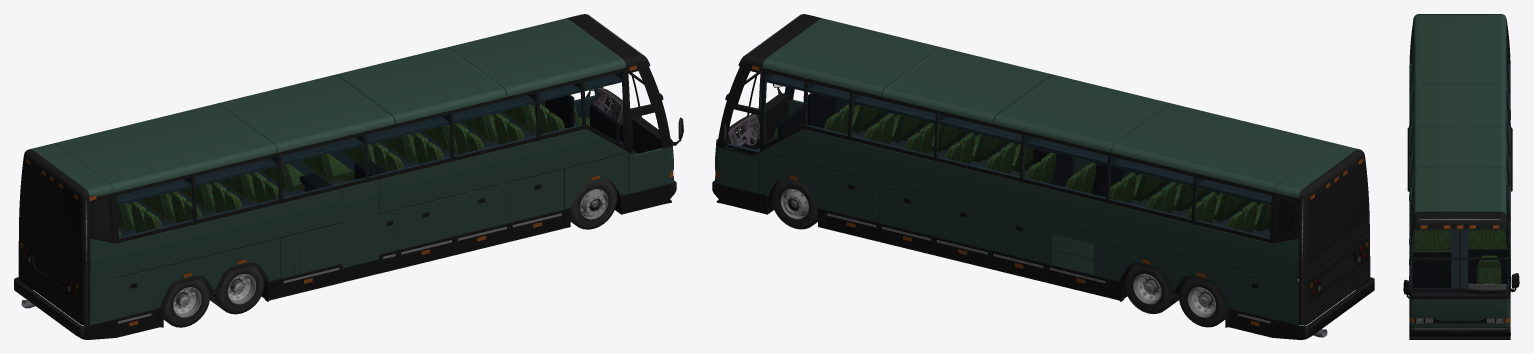
File: prevost-h3-45-heavy.glb
3 renders of one model, left to right at view 1: azimuth 30°, elevation 25°; view 2: azimuth 150°, elevation 25°; view 3: azimuth 270°, elevation 25°, orthographic. The views are drawn at different scales.
Visible parts, largest first — view 1: exterior, interior, door_r, door_f, wheel_1, wheel_4, wheel_5, refect_1, reflect_2, reflect_3, dash; view 2: exterior, interior, wheel, wheel_2, wheel_3, refect, reflect_1, reflect, dash; view 3: exterior, interior, dash.
Part boxes in pixels (box(x1,y1,x2,y2)): exterior: box(14, 14, 683, 339); interior: box(117, 72, 671, 238); door_r: box(342, 179, 379, 282); door_f: box(628, 105, 667, 212); wheel_1: box(570, 179, 617, 229); wheel_4: box(210, 267, 264, 314); wheel_5: box(163, 280, 209, 327); refect_1: box(580, 189, 608, 219); reflect_2: box(227, 274, 255, 304); reflect_3: box(173, 287, 200, 317); dash: box(592, 88, 630, 127); exterior: box(712, 14, 1374, 339); interior: box(717, 72, 1298, 275); wheel: box(771, 179, 817, 229); wheel_2: box(1124, 267, 1178, 314); wheel_3: box(1179, 280, 1225, 327); refect: box(780, 188, 808, 219); reflect_1: box(1187, 287, 1215, 317); reflect: box(1133, 273, 1161, 303); dash: box(727, 114, 759, 146); exterior: box(1403, 14, 1519, 339); interior: box(1410, 35, 1509, 295); dash: box(1467, 283, 1506, 293).
Bounding box in the file's own units: 11.95 × 3.01 × 2.64.
8 materials, 6 textured.
